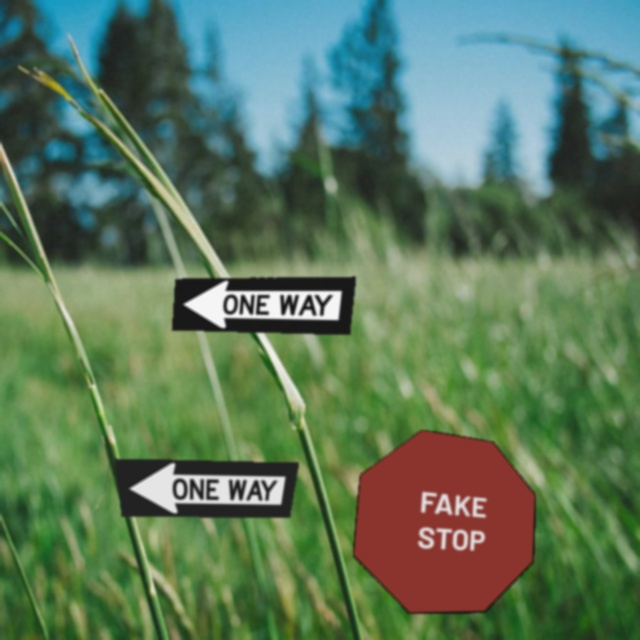FAKE_STOP: (352, 429, 536, 614)
ONE_WAY_ left: (114, 458, 299, 518), (171, 276, 356, 335)
